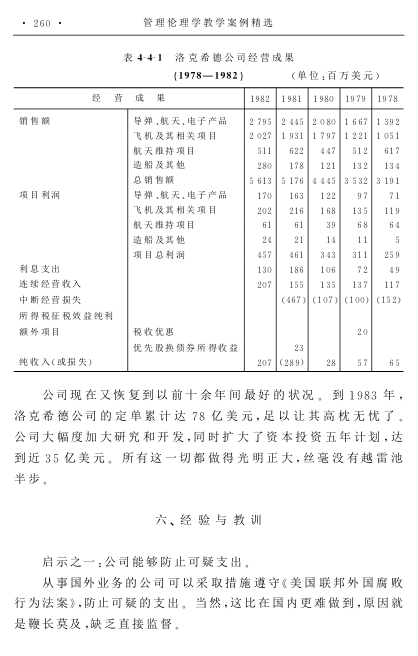table: (13, 87, 404, 372)
